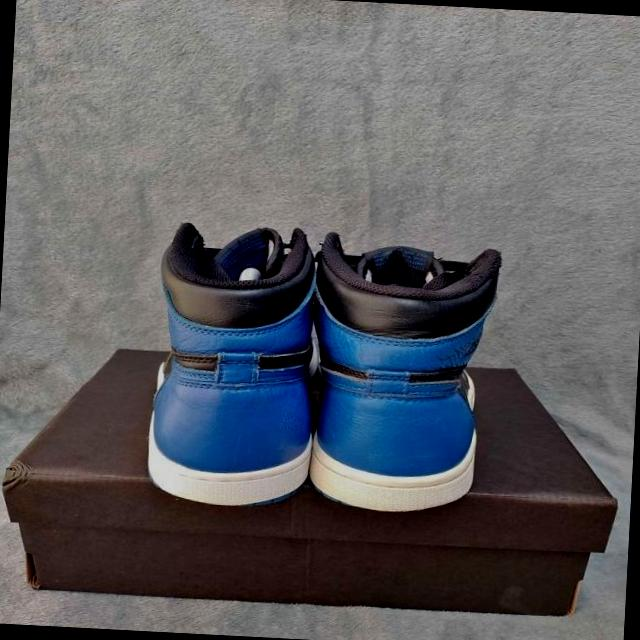nike_fake_jordan: (266, 229, 512, 525), (141, 215, 331, 510)
